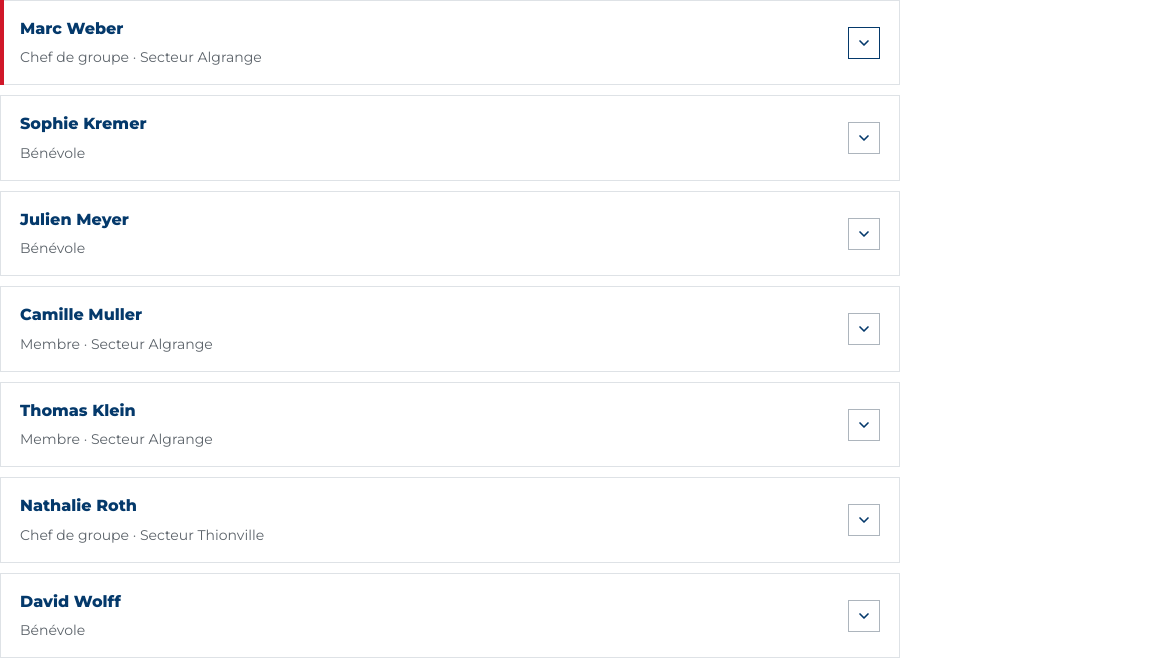
Test: MembersAdminPage › lets only an Admin correct someone's names
This screenshot has width=1152, height=664.
Click the button "Sophie Kremer Bénévole". click: (83, 124)
box: [20,112,832,165]
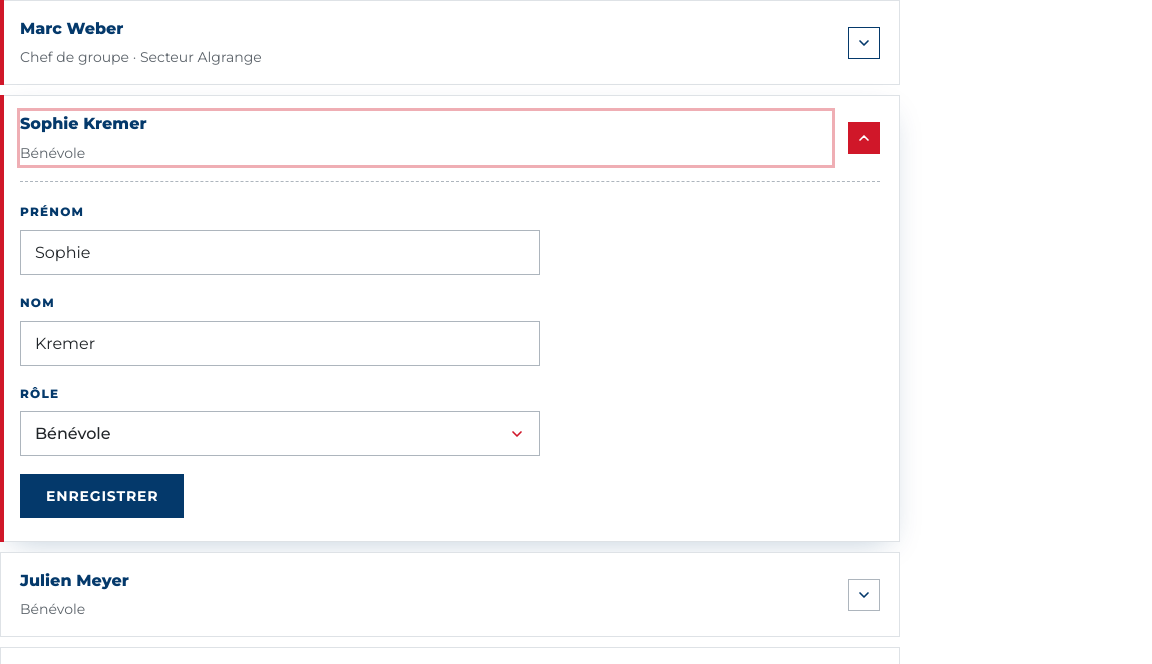
Expected: the field labelled "Prénom" is disabled, [20,230,540,275]
